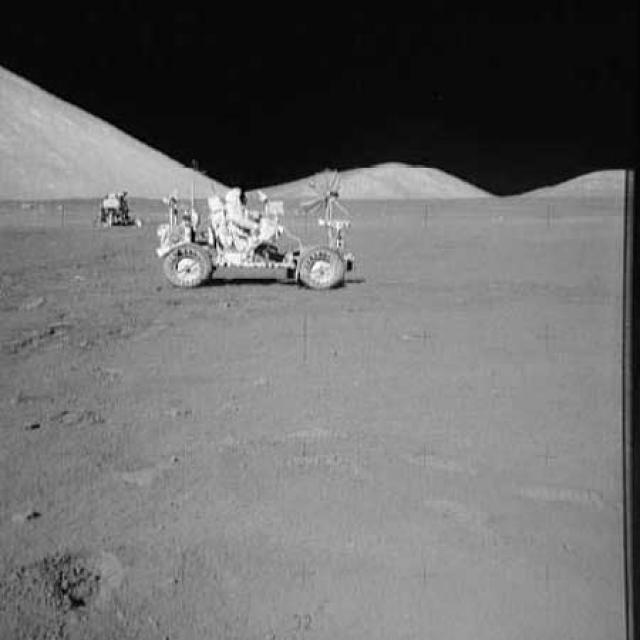artifact: (150, 167, 366, 297), (91, 185, 145, 235)
crater: (16, 552, 130, 616)
